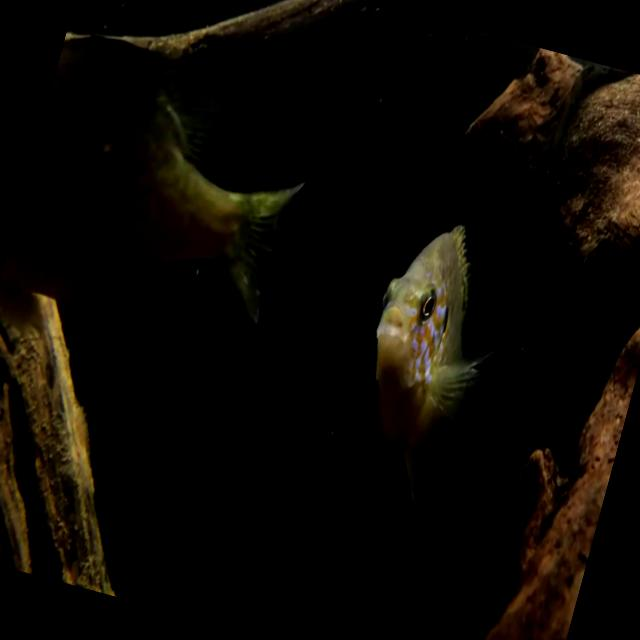Gunes Levregi: (0, 14, 330, 382), (329, 206, 531, 524)
